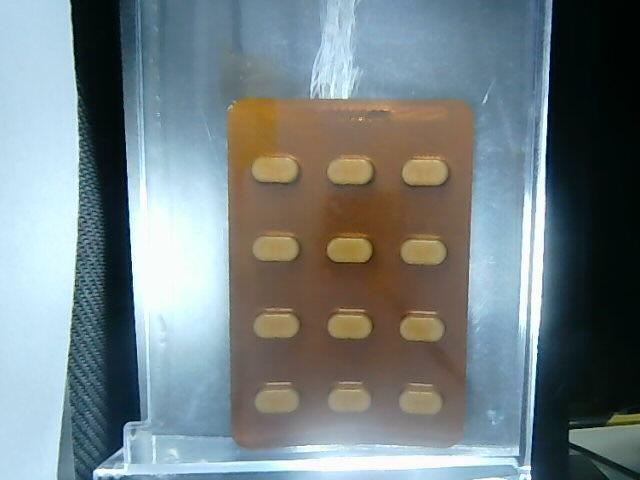Light Front: (224, 97, 476, 451)
Pill Front: (394, 384, 453, 421), (248, 148, 305, 186), (320, 311, 381, 346), (396, 311, 450, 348), (247, 232, 305, 266), (397, 236, 452, 271), (322, 233, 375, 269), (251, 385, 309, 417), (323, 384, 375, 419), (399, 154, 446, 190), (323, 154, 374, 187), (250, 309, 302, 340)
